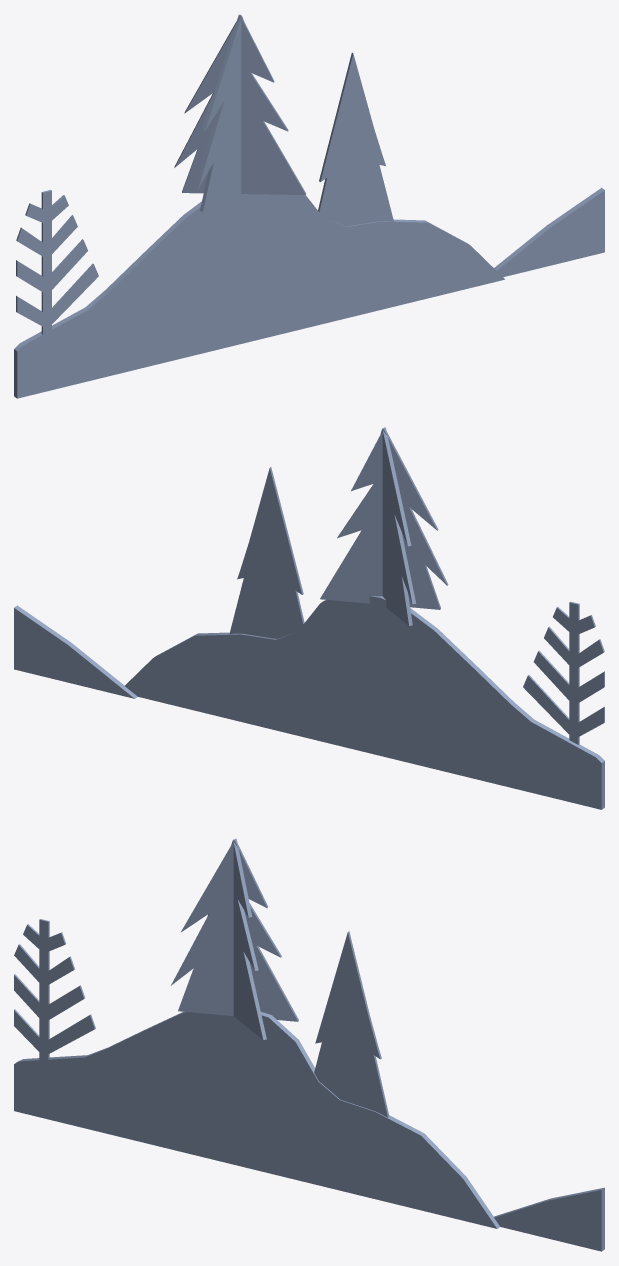
File: frame_0210.glb
3 renders of one model, top to bottom at view 1: azimuth 30°, elevation 25°; view 2: azimuth 150°, elevation 25°; view 3: azimuth 330°, elevation 25°, orthographic.
Visible parts, largest first — view 1: export_trees_001.002; view 2: export_trees_001.002; view 3: export_trees_001.002.
Part boxes in pixels (left/top/right/bottom): export_trees_001.002: left=14, top=14, right=604, bottom=398; export_trees_001.002: left=14, top=427, right=604, bottom=809; export_trees_001.002: left=14, top=838, right=604, bottom=1251.
Size of the model in its own units: 0.4327 by 0.2304 by 0.0469.
